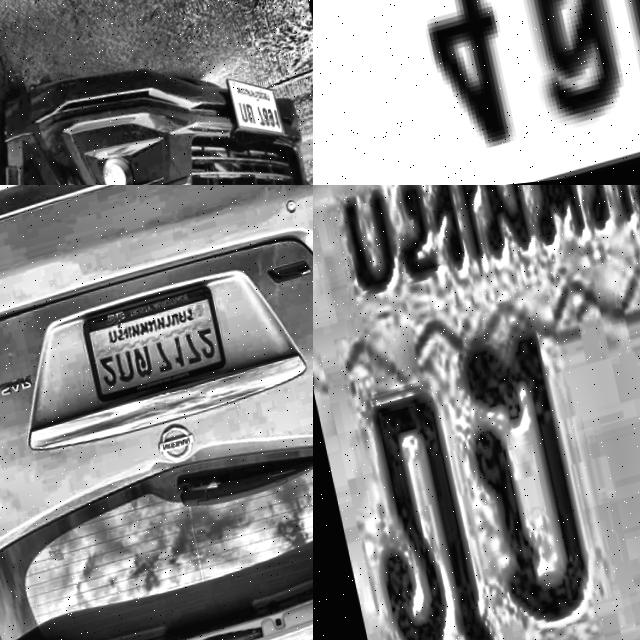license-plate: (313, 185, 640, 640), (313, 0, 640, 185), (77, 286, 228, 412), (215, 73, 290, 167)
